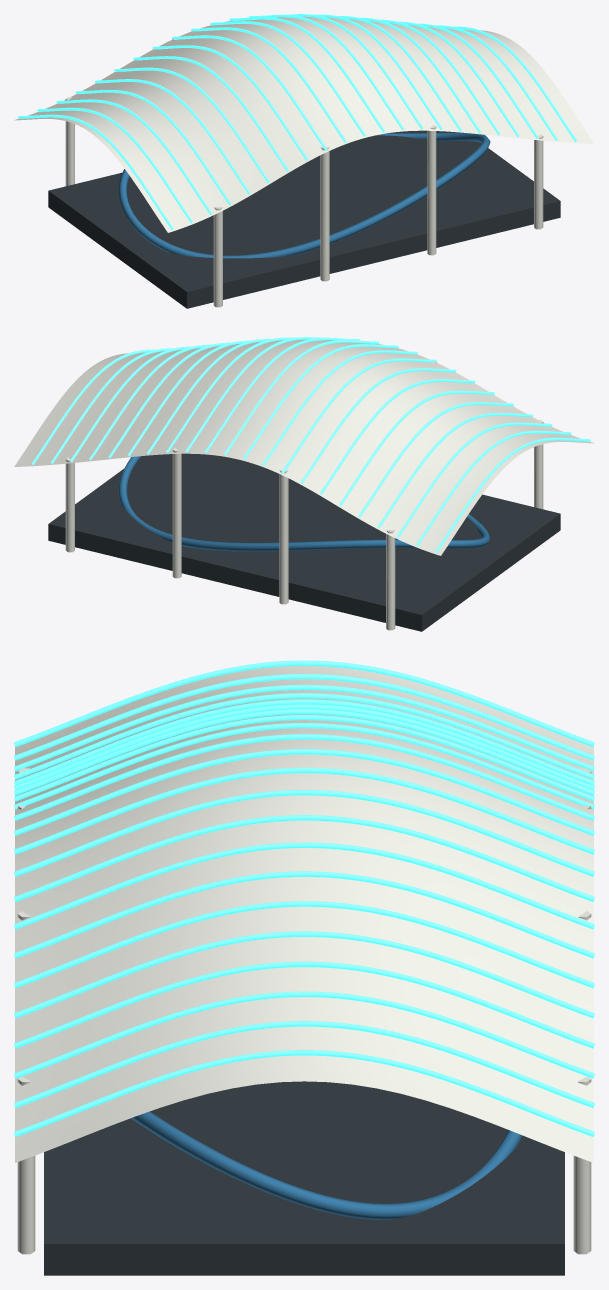
Rendered from tron.glb.
The picture shows the model from 3 angles, top to bottom: view 1: azimuth 30°, elevation 25°; view 2: azimuth 150°, elevation 25°; view 3: azimuth 270°, elevation 25°; orthographic projection. The views are drawn at different scales.
Bounding box in the file's own units: 8 × 3.24 × 5.02.
